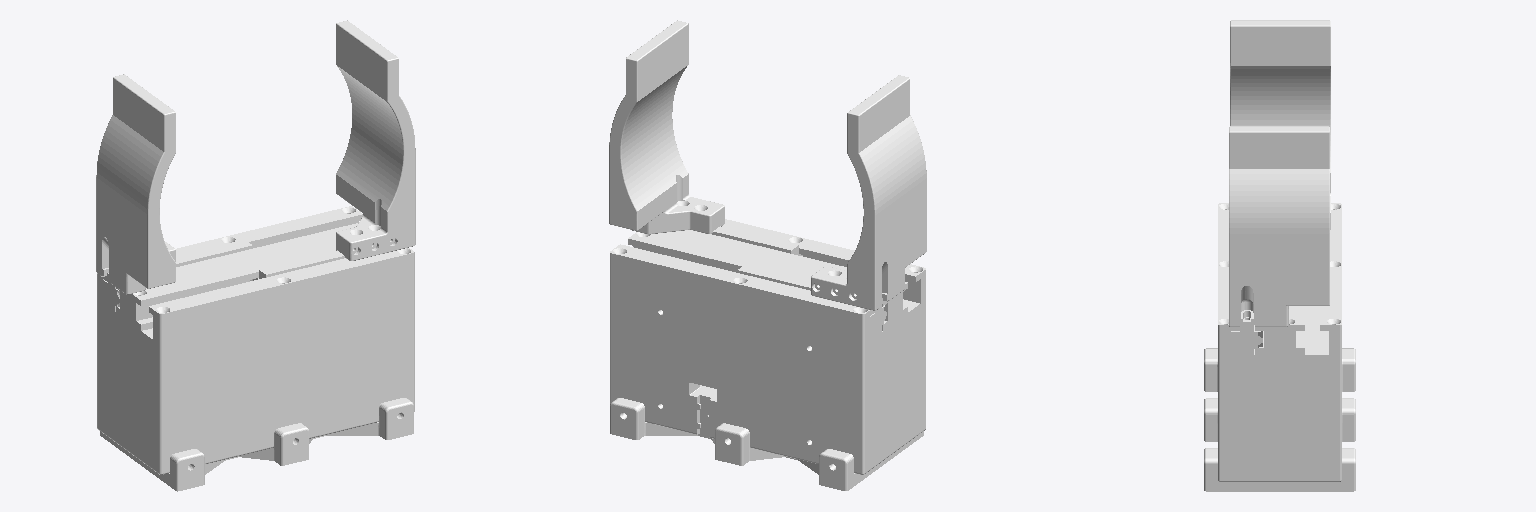
The robot description file, URDF, robot "argripper":
<?xml version="1.0" encoding="utf-8"?>
<!-- This URDF was automatically created by SolidWorks to URDF Exporter! Originally created by Stephen Brawner (brawner@gmail.com) 
     Commit Version: 1.6.0-4-g7f85cfe  Build Version: 1.6.7995.38578
     For more information, please see http://wiki.ros.org/sw_urdf_exporter -->
<robot
  name="argripper">
  <link
    name="base_link">
    <inertial>
      <origin
        xyz="0.034366 0.07913 0.10227"
        rpy="0 0 0" />
      <mass
        value="0.5466" />
      <inertia
        ixx="0.00019731"
        ixy="-9.8174E-06"
        ixz="-2.5976E-07"
        iyy="0.00087623"
        iyz="1.4998E-07"
        izz="0.00094338" />
    </inertial>
    <visual>
      <origin
        xyz="0 0 0"
        rpy="0 0 0" />
      <geometry>
        <mesh
          filename="package://argripper/meshes/base_link.STL" />
      </geometry>
      <material
        name="">
        <color
          rgba="1 1 1 0.85" />
      </material>
    </visual>
    <collision>
      <origin
        xyz="0 0 0"
        rpy="0 0 0" />
      <geometry>
        <mesh
          filename="package://argripper/meshes/base_link.STL" />
      </geometry>
    </collision>
  </link>
  <link
    name="l_0">
    <inertial>
      <origin
        xyz="-0.05565 0.034191 0.0032778"
        rpy="0 0 0" />
      <mass
        value="0.060223" />
      <inertia
        ixx="3.8896E-05"
        ixy="2.2985E-07"
        ixz="6.1255E-07"
        iyy="1.4346E-05"
        iyz="-2.4221E-06"
        izz="3.8371E-05" />
    </inertial>
    <visual>
      <origin
        xyz="0 0 0"
        rpy="0 0 0" />
      <geometry>
        <mesh
          filename="package://argripper/meshes/l_0.STL" />
      </geometry>
      <material
        name="">
        <color
          rgba="1 1 1 0.85" />
      </material>
    </visual>
    <collision>
      <origin
        xyz="0 0 0"
        rpy="0 0 0" />
      <geometry>
        <mesh
          filename="package://argripper/meshes/l_0.STL" />
      </geometry>
    </collision>
  </link>
  <joint
    name="l_0"
    type="prismatic">
    <origin
      xyz="0.03373 -0.11053 0.11413"
      rpy="1.5708 0 3.1416" />
    <parent
      link="base_link" />
    <child
      link="l_0" />
    <axis
      xyz="1 0 0" />
    <limit
      lower="0"
      upper="0"
      effort="0"
      velocity="0" />
  </joint>
  <link
    name="r_0">
    <inertial>
      <origin
        xyz="-0.01192 0.034191 0.0032778"
        rpy="0 0 0" />
      <mass
        value="0.060223" />
      <inertia
        ixx="3.8896E-05"
        ixy="2.2985E-07"
        ixz="6.1255E-07"
        iyy="1.4346E-05"
        iyz="-2.4221E-06"
        izz="3.8371E-05" />
    </inertial>
    <visual>
      <origin
        xyz="0 0 0"
        rpy="0 0 0" />
      <geometry>
        <mesh
          filename="package://argripper/meshes/r_0.STL" />
      </geometry>
      <material
        name="">
        <color
          rgba="1 1 1 0.85" />
      </material>
    </visual>
    <collision>
      <origin
        xyz="0 0 0"
        rpy="0 0 0" />
      <geometry>
        <mesh
          filename="package://argripper/meshes/r_0.STL" />
      </geometry>
    </collision>
  </link>
  <joint
    name="r_0"
    type="prismatic">
    <origin
      xyz="0 -0.093877 0.11413"
      rpy="1.5708 0 0" />
    <parent
      link="base_link" />
    <child
      link="r_0" />
    <axis
      xyz="1 0 0" />
    <limit
      lower="0"
      upper="0"
      effort="0"
      velocity="0" />
  </joint>
</robot>

--- Render facts (derived) ---
Views: 3 orthographic renders of the robot side by side, from view 1: azimuth 30°, elevation 25°; view 2: azimuth 150°, elevation 25°; view 3: azimuth 270°, elevation 25°.
Robot: argripper — 3 links, 2 joints (2 prismatic); root link base_link; default pose: all joints at 0.
Visible links, largest first — view 1: base_link, l_0, r_0; view 2: base_link, r_0, l_0; view 3: base_link, l_0, r_0.
Link boxes in pixels (x1,y1,x2,y2): base_link: (97,206,414,491); l_0: (254,20,415,279); r_0: (96,74,252,311); base_link: (610,219,925,490); r_0: (737,75,926,339); l_0: (609,20,802,255); base_link: (1204,203,1355,491); l_0: (1229,126,1329,354); r_0: (1230,20,1330,229).
Bounding box of the posed robot: 0.131 × 0.066 × 0.1718 m (x, y, z).
3 mesh visuals loaded from 3 distinct referenced files (3 binary STL).
